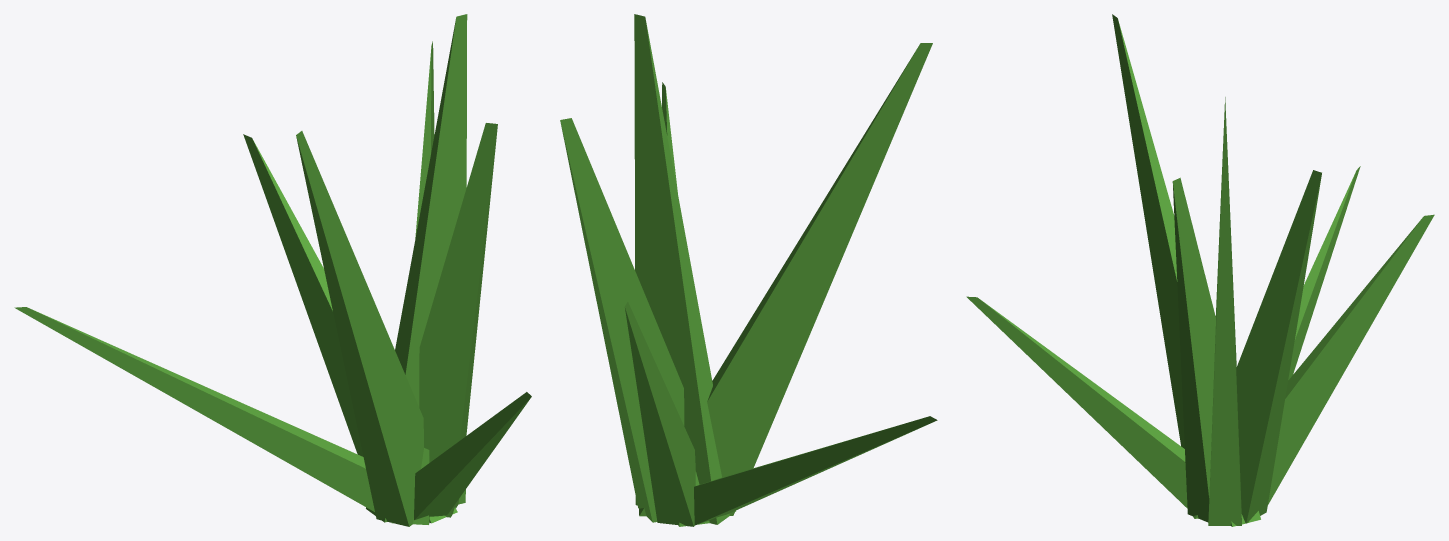
Rendered from grass.fbx.
The picture shows the model from 3 angles, left to right: view 1: azimuth 30°, elevation 25°; view 2: azimuth 150°, elevation 25°; view 3: azimuth 270°, elevation 25°; orthographic projection. The views are drawn at different scales.
Visible parts, largest first — view 1: Grass; view 2: Grass; view 3: Grass.
Part boxes in pixels (x1,y1,x2,y2): Grass: (14, 14, 531, 526); Grass: (560, 14, 937, 526); Grass: (966, 14, 1434, 526).
Bounding box in the file's own units: 0.2936 × 0.3383 × 0.3342.
